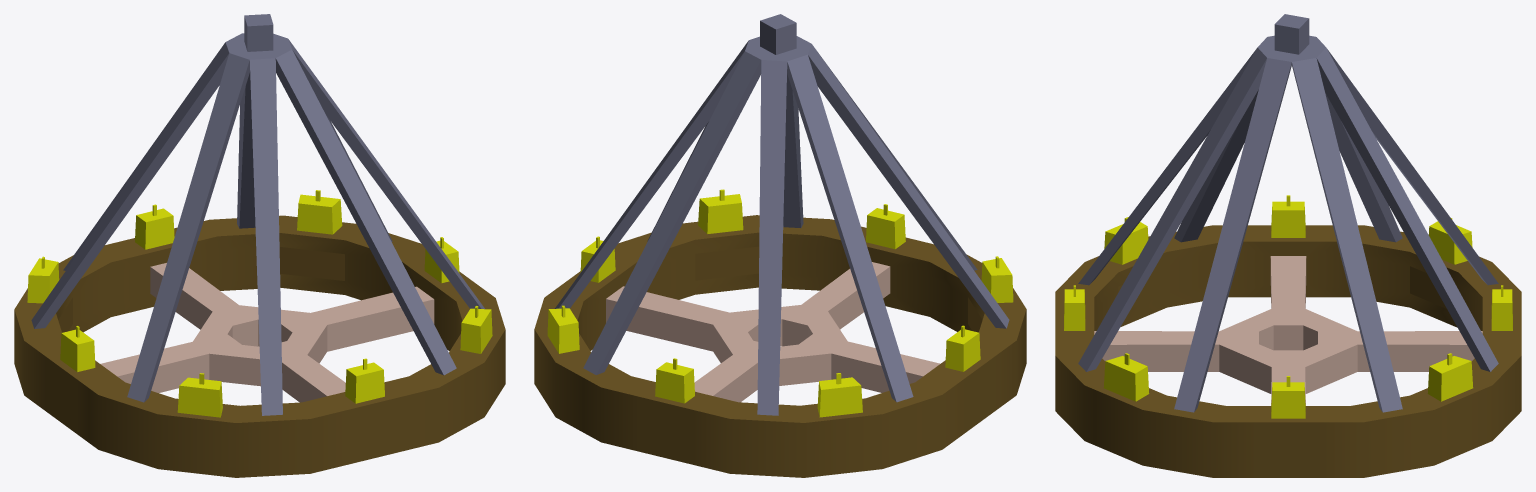
File: Chandelier.fbx
3 views of the same model, side by side, from view 1: azimuth 30°, elevation 25°; view 2: azimuth 150°, elevation 25°; view 3: azimuth 270°, elevation 25° (orthographic).
Parts seen in each view (by area): view 1: pCube357; view 2: pCube357; view 3: pCube357.
Part boxes in pixels (x1,y1,x2,y2): pCube357: (14,14,505,477); pCube357: (534,14,1026,477); pCube357: (1055,14,1521,477).
Bounding box in the file's own units: 1.76 × 1.49 × 1.76.
